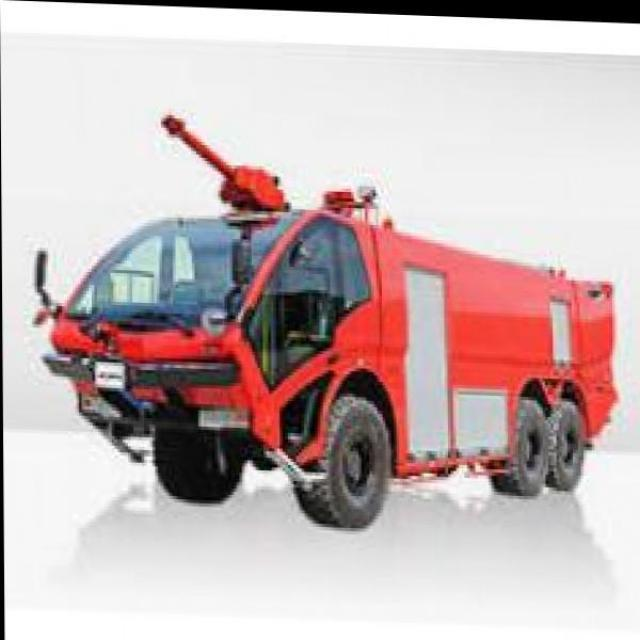emergency: (32, 110, 620, 530)
